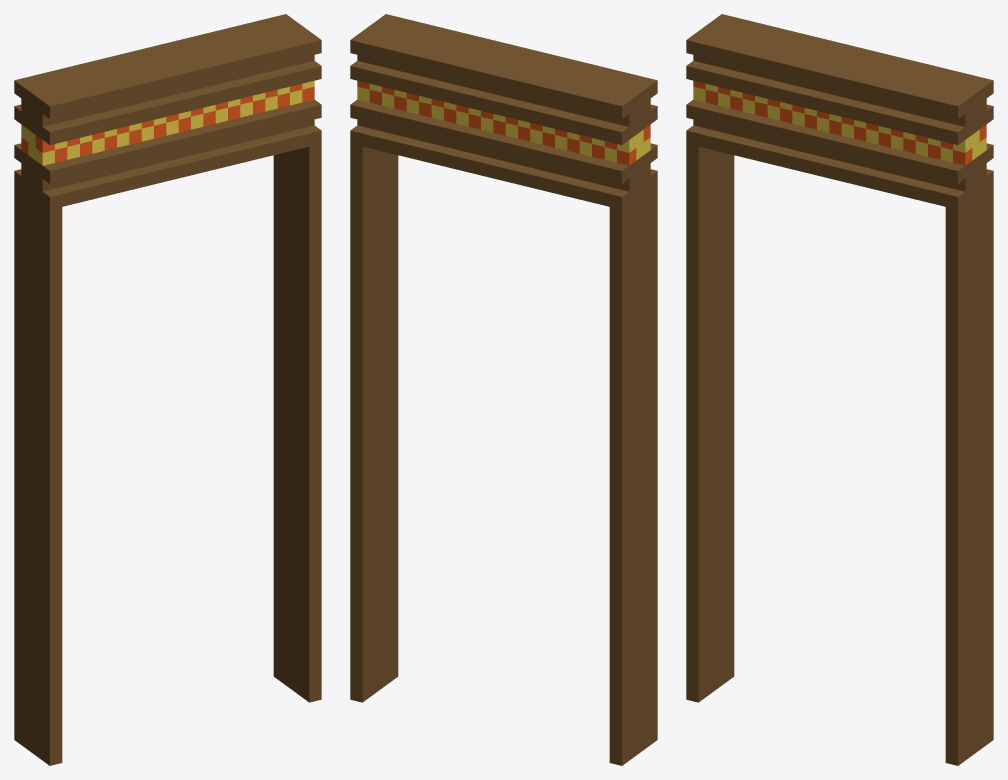
The model's file is wallpaper_wall_one_doorway.obj.
The picture shows the model from 3 angles, left to right: view 1: azimuth 30°, elevation 25°; view 2: azimuth 150°, elevation 25°; view 3: azimuth 330°, elevation 25°; orthographic projection.
Bounding box in the file's own units: 2.2 × 5.1 × 0.5.
Materials: 1 (1 with a texture image).
